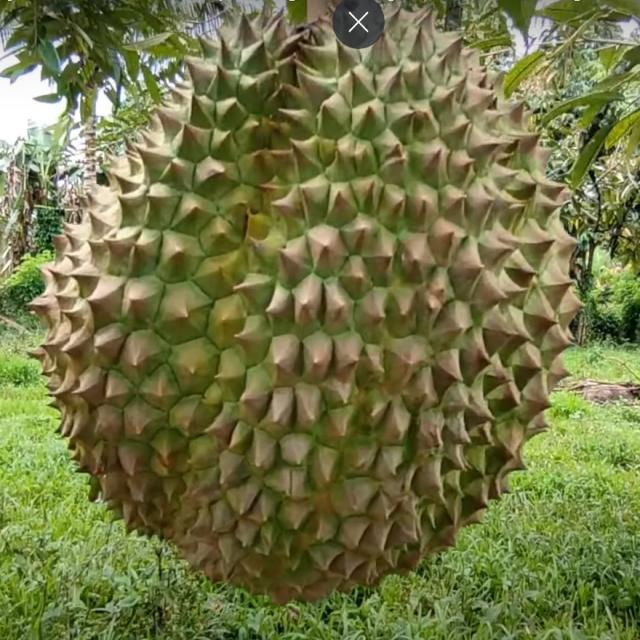mature: (32, 7, 588, 606)
